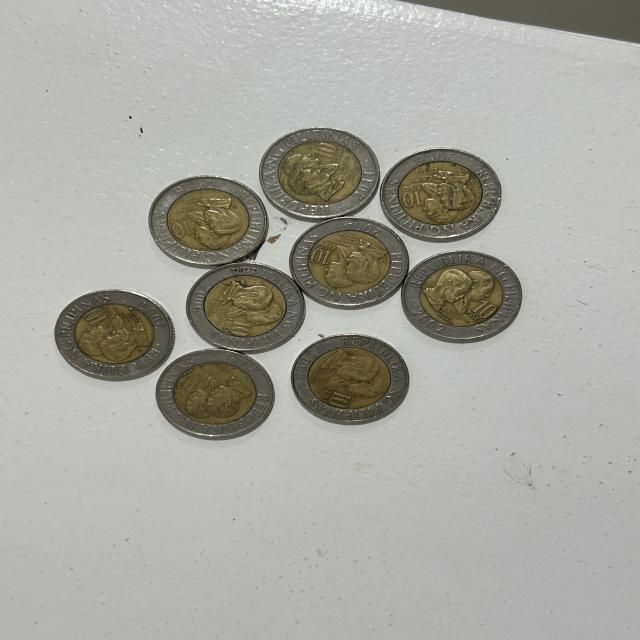10_Old_Front: (317, 382, 358, 412), (464, 296, 498, 325), (314, 138, 348, 166), (395, 177, 423, 211), (221, 314, 257, 338), (307, 242, 335, 270), (77, 308, 116, 328), (165, 215, 194, 240), (176, 369, 204, 391)
